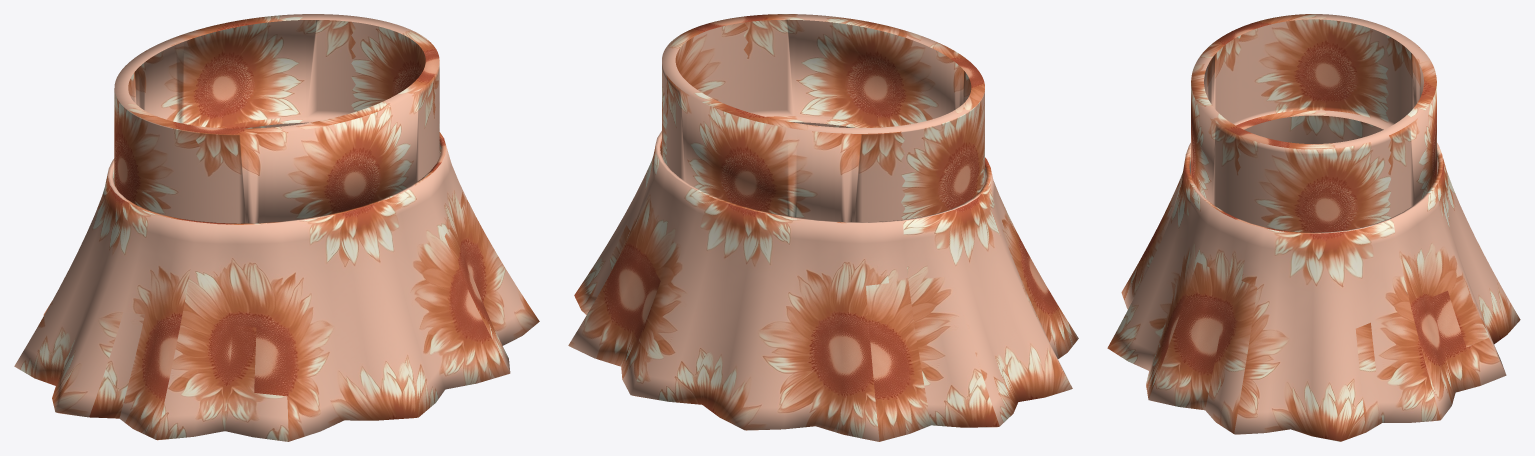
File: sundress4.fbx
3 renders of one model, left to right at view 1: azimuth 30°, elevation 25°; view 2: azimuth 150°, elevation 25°; view 3: azimuth 270°, elevation 25°, orthographic. The views are drawn at different scales.
Parts seen in each view (by area): view 1: sundress4; view 2: sundress4; view 3: sundress4.
Boxes of the visible parts, x1=… form: sundress4: x1=14, y1=14, x2=539, y2=441; sundress4: x1=568, y1=14, x2=1078, y2=441; sundress4: x1=1107, y1=14, x2=1520, y2=441.
Bounding box in the file's own units: 1.35 × 0.7401 × 1.09.
Materials: 1 (1 with a texture image).
